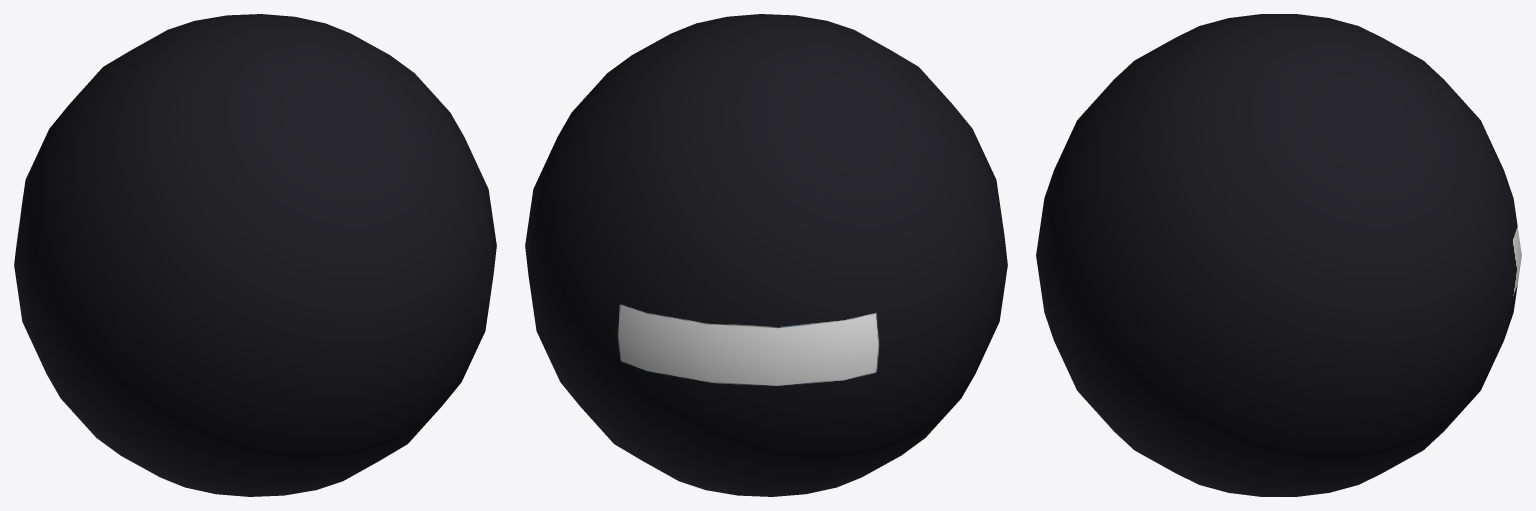
The model's file is electron.glb.
The picture shows the model from 3 angles, left to right: view 1: azimuth 30°, elevation 25°; view 2: azimuth 150°, elevation 25°; view 3: azimuth 270°, elevation 25°; orthographic projection.
Parts seen in each view (by area): view 1: Sphere; view 2: Sphere; view 3: Sphere.
Boxes of the visible parts, x1,y1,x2,y2 form: Sphere: [14, 14, 496, 496]; Sphere: [525, 14, 1007, 496]; Sphere: [1036, 14, 1521, 496].
Size of the model in its own units: 1.98 by 2 by 2.
1 material, 1 textured.
